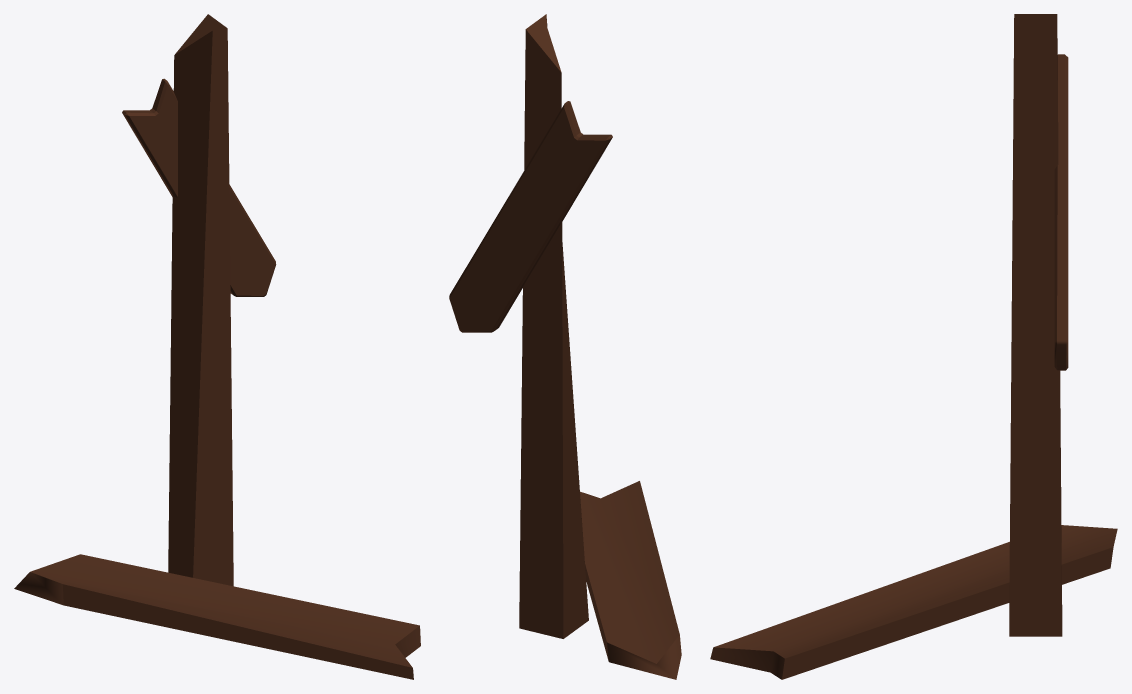
The model's file is Sign 3.fbx.
3 views of the same model, side by side, from view 1: azimuth 30°, elevation 25°; view 2: azimuth 150°, elevation 25°; view 3: azimuth 270°, elevation 25° (orthographic). The views are drawn at different scales.
Visible parts, largest first — view 1: polySurface690; view 2: polySurface690; view 3: polySurface690.
Part boxes in pixels (<box>): polySurface690: <box>14,14,420,679</box>; polySurface690: <box>449,14,681,679</box>; polySurface690: <box>710,14,1117,679</box>.
Bounding box in the file's own units: 6.15 × 13.07 × 7.69.
